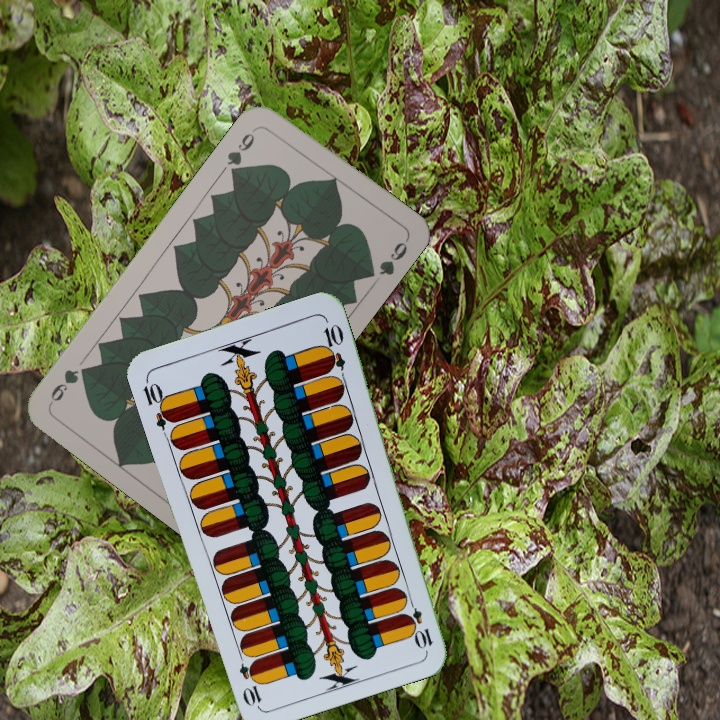E10: (139, 374, 177, 432), (402, 593, 436, 651)
G9: (222, 123, 261, 179)
